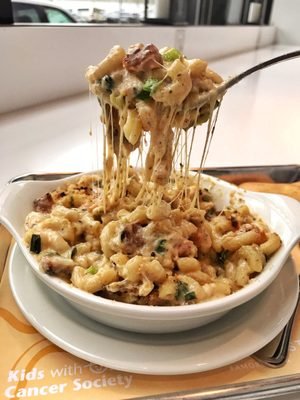sushi: (11, 167, 299, 333)
